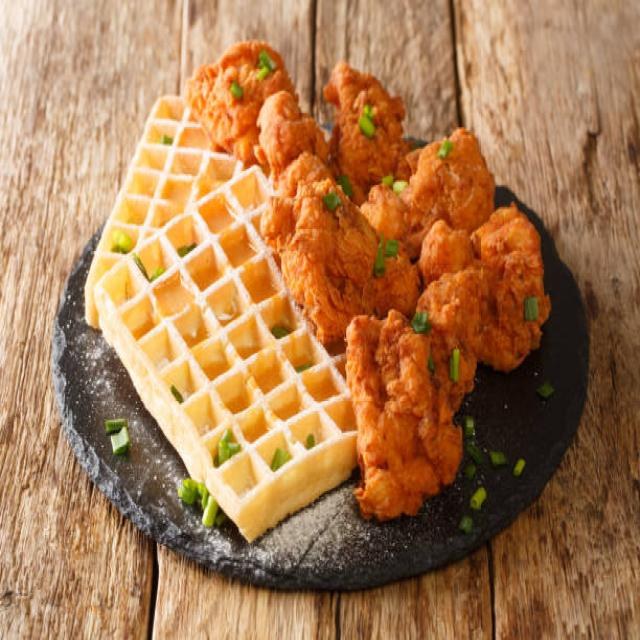Frango: (192, 40, 558, 518)
